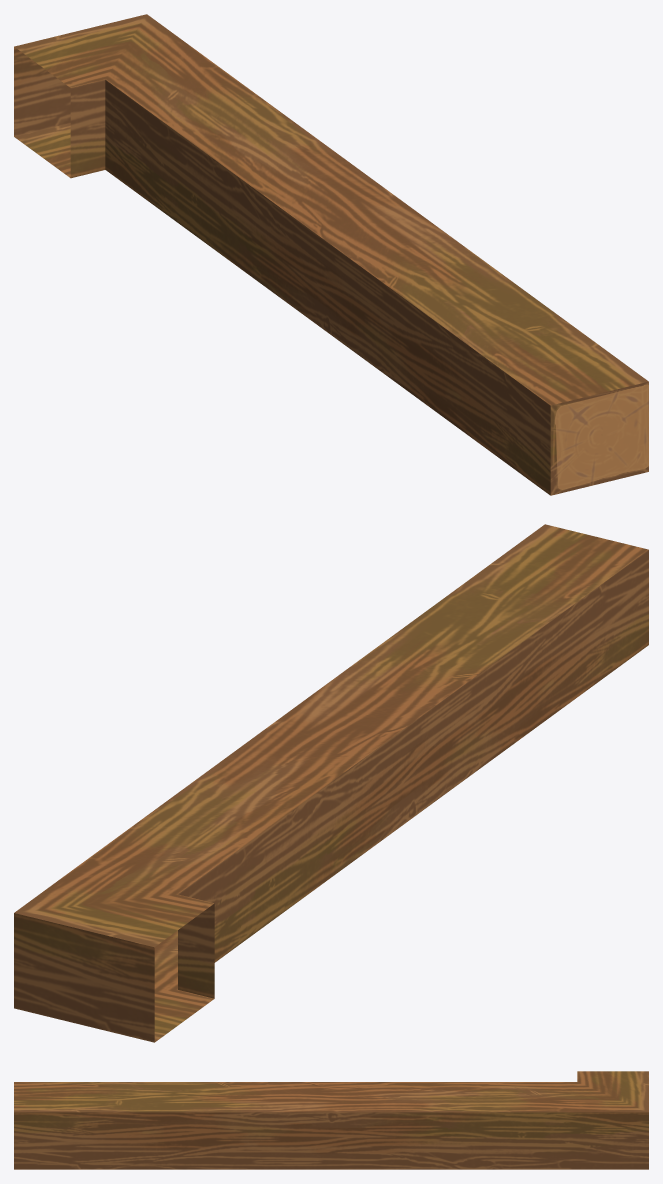
Rendered from hole_cover_90_stairs.gltf.
3 views of the same model, one above another, from view 1: azimuth 30°, elevation 25°; view 2: azimuth 150°, elevation 25°; view 3: azimuth 270°, elevation 25° (orthographic). The views are drawn at different scales.
Visible parts, largest first — view 1: HoleCover_90Stairs; view 2: HoleCover_90Stairs; view 3: HoleCover_90Stairs.
Part boxes in pixels (bbox=[...]): HoleCover_90Stairs: bbox=[14, 14, 648, 495]; HoleCover_90Stairs: bbox=[14, 524, 648, 1042]; HoleCover_90Stairs: bbox=[14, 1071, 648, 1169].
Size of the model in its own units: 0.3242 by 0.2102 by 2.12.
Materials: 1 (1 with a texture image).
